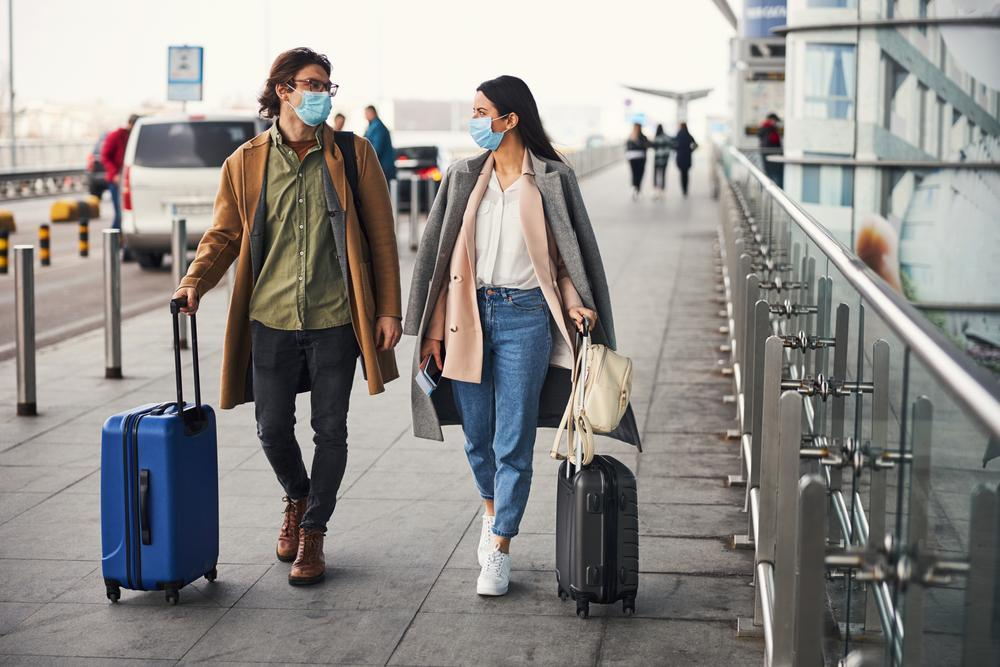person: (169, 41, 403, 594), (402, 73, 647, 601), (96, 107, 148, 240), (359, 100, 400, 201), (751, 109, 796, 191), (622, 119, 656, 202), (673, 121, 705, 198), (648, 122, 677, 194), (327, 110, 352, 133)
suitcase: (95, 395, 223, 594), (549, 449, 643, 606)
